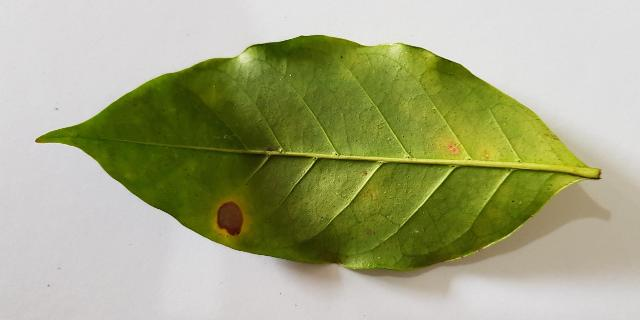phoma: (213, 200, 247, 237), (445, 142, 460, 155)
